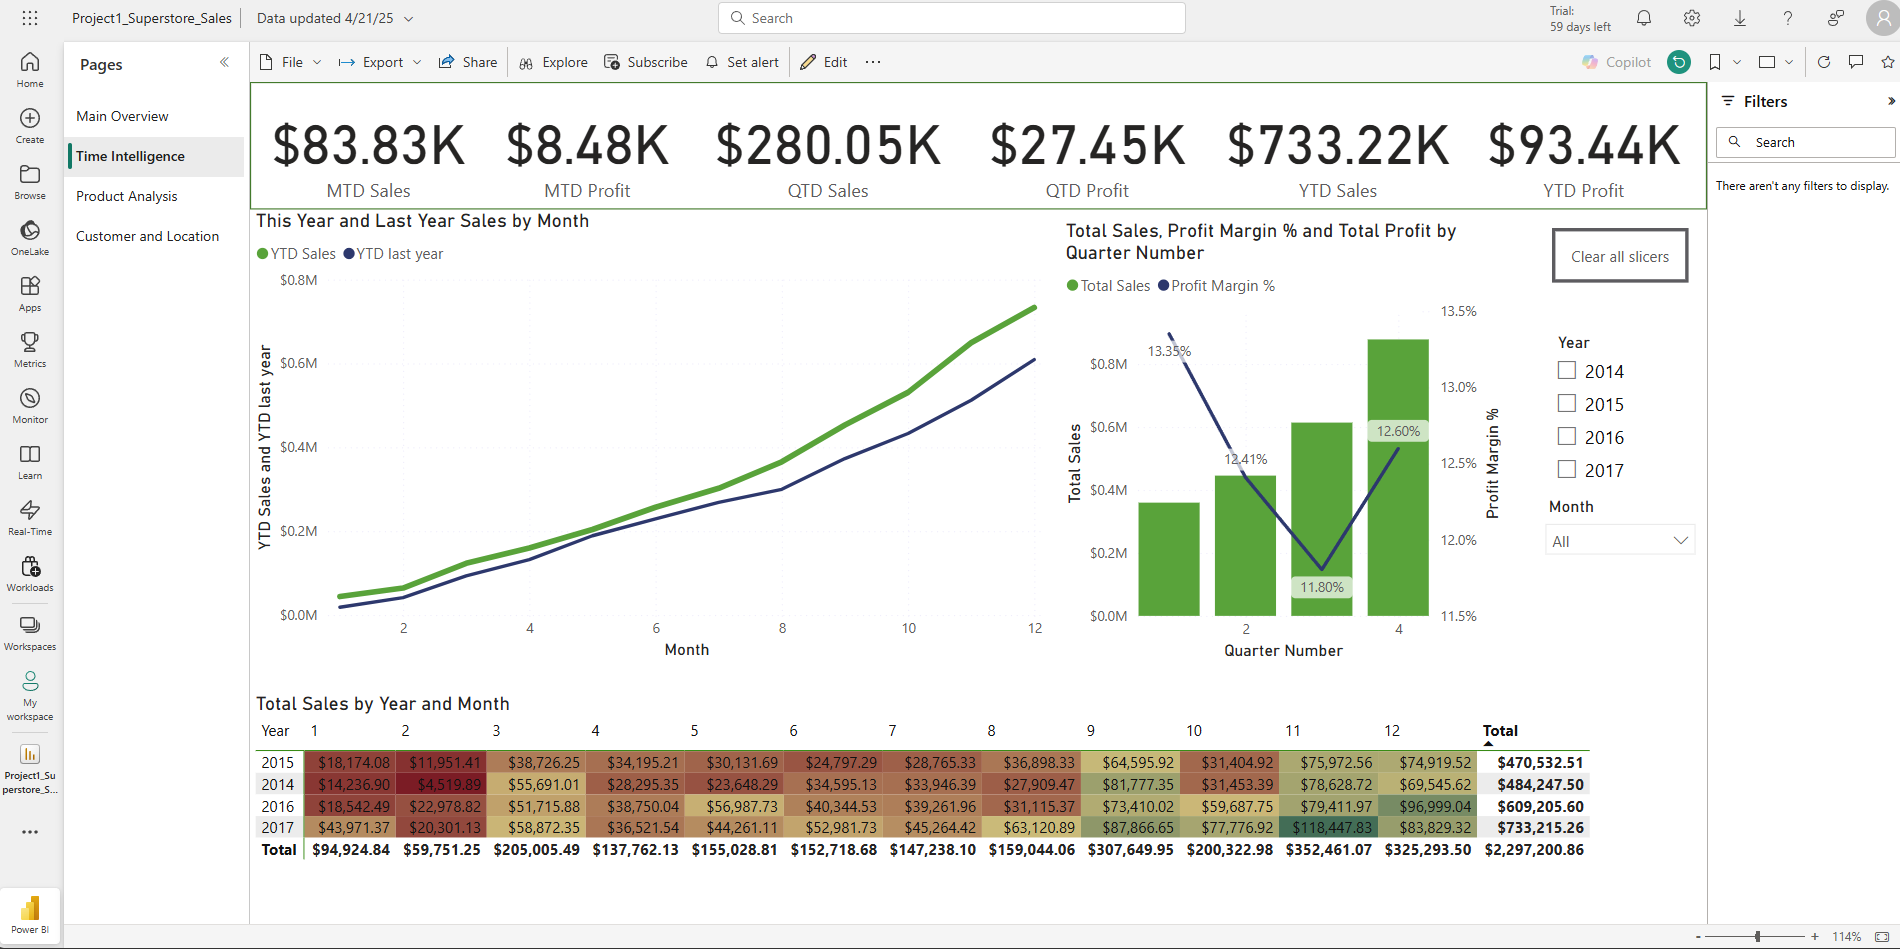

The page's visual inventory and layout, read from the dashboard file:
{"tool":"powerbi","page":{"name":"Time Intelligence","canvas":[1280,720],"ordinal":1},"visuals":[{"type":"card","fields":{"Values":["FactSales.MTD Sales"]},"box":[0,0,208,120],"z":0},{"type":"card","fields":{"Values":["FactSales.QTD Sales"]},"box":[392,0,232,120],"z":1000},{"type":"card","fields":{"Values":["FactSales.MTD Profit"]},"box":[208,0,176,120],"z":2000},{"type":"card","fields":{"Values":["FactSales.YTD Sales"]},"box":[840,0,232,120],"z":3000},{"type":"slicer","fields":{"Values":["DateDimension.Year Hierarchy.Month"]},"box":[1128,360,152,192],"z":4000},{"type":"lineChart","title":"This Year and Last Year Sales by Month","fields":{"Y":["FactSales.YTD Sales","FactSales.YTD last year"],"Category":["DateDimension.Year Hierarchy.Year","DateDimension.Year Hierarchy.Quarter Number","DateDimension.Year Hierarchy.Month","DateDimension.Year Hierarchy.Day"]},"box":[0,112,704,400],"z":5000},{"type":"slicer","fields":{"Values":["DateDimension.Year Hierarchy.Year"]},"box":[1136,216,144,144],"z":6000},{"type":"pivotTable","title":"Total Sales by Year and Month","fields":{"Rows":["DateDimension.Year"],"Columns":["DateDimension.Month"],"Values":["FactSales.Total Sales"]},"box":[0,535.5,1279.7,184.5],"z":7000},{"type":"lineStackedColumnComboChart","fields":{"Category":["DateDimension.Year Hierarchy.Quarter Number"],"Y":["FactSales.Total Sales"],"Y2":["FactSales.Profit Margin"]},"box":[712,120,392,392],"z":8000},{"type":"card","fields":{"Values":["FactSales.QTD Profit"]},"box":[632,0,208,120],"z":9000},{"type":"card","fields":{"Values":["FactSales.YTD Profit"]},"box":[1064,0,216,120],"z":10000},{"type":"shape","box":[0,0,1280,112],"z":11000},{"type":"actionButton","box":[1144,128,120,48],"z":12000}]}

Visuals, with their boxes on the page's 1280x720 design canvas (x1, y1, x2, y2). These are canvas units, not pixel positions in the 1900x949 screenshot, which may show the page scaled, cropped or inside an application window:
card - FactSales.MTD Sales: bbox=[0, 0, 208, 120]
card - FactSales.QTD Sales: bbox=[392, 0, 624, 120]
card - FactSales.MTD Profit: bbox=[208, 0, 384, 120]
card - FactSales.YTD Sales: bbox=[840, 0, 1072, 120]
slicer - DateDimension.Year Hierarchy.Month: bbox=[1128, 360, 1280, 552]
"This Year and Last Year Sales by Month" lineChart: bbox=[0, 112, 704, 512]
slicer - DateDimension.Year Hierarchy.Year: bbox=[1136, 216, 1280, 360]
"Total Sales by Year and Month" pivotTable: bbox=[0, 536, 1280, 720]
lineStackedColumnComboChart - DateDimension.Year Hierarchy.Quarter Number x FactSales.Total Sales: bbox=[712, 120, 1104, 512]
card - FactSales.QTD Profit: bbox=[632, 0, 840, 120]
card - FactSales.YTD Profit: bbox=[1064, 0, 1280, 120]
shape: bbox=[0, 0, 1280, 112]
actionButton: bbox=[1144, 128, 1264, 176]
